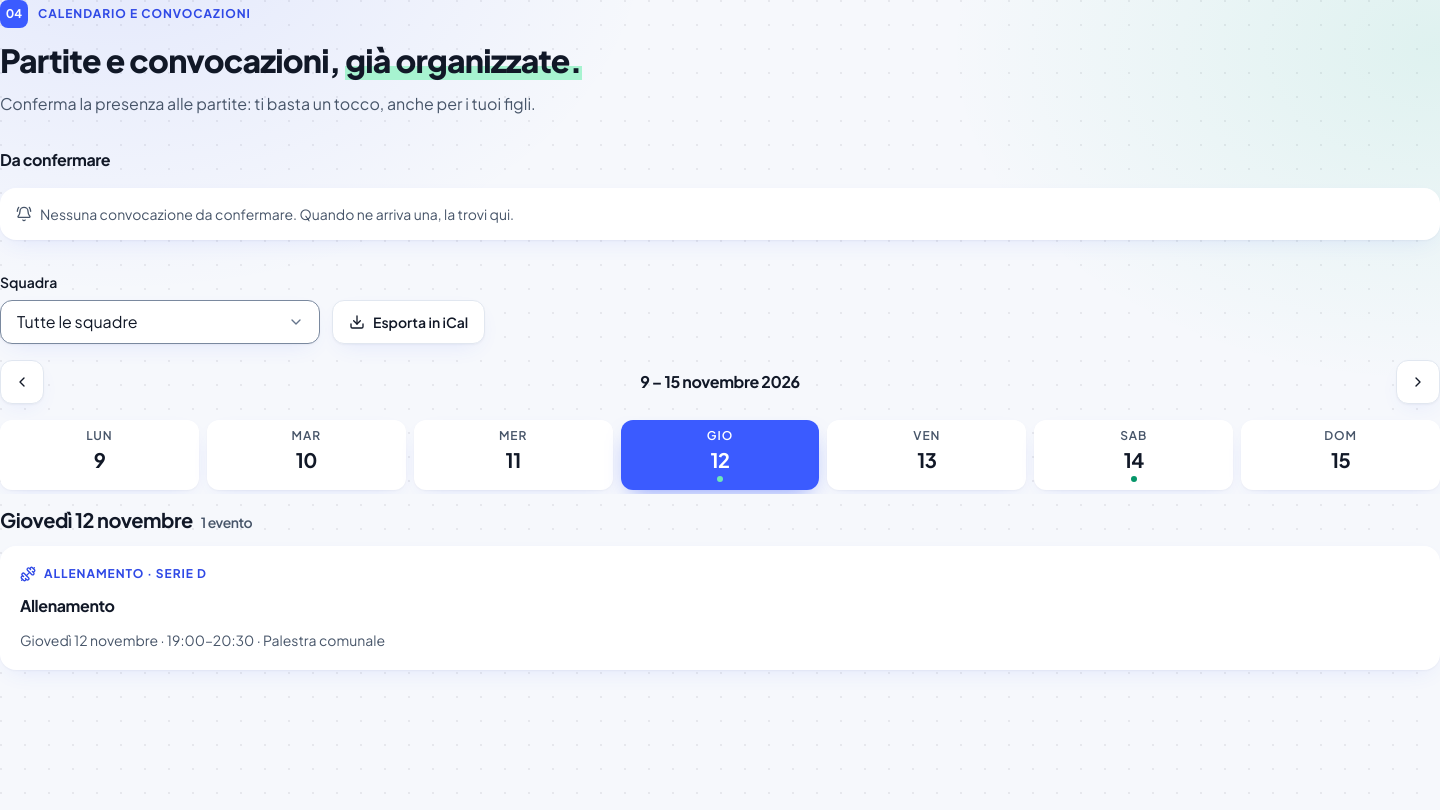
Test: convocations of an athlete or a guardian › tells an athlete that is not convocated yet what to expect
Click the button named "sab 14 novembre, con eventi" at {"x": 1134, "y": 455}, box [1034,420,1233,490]
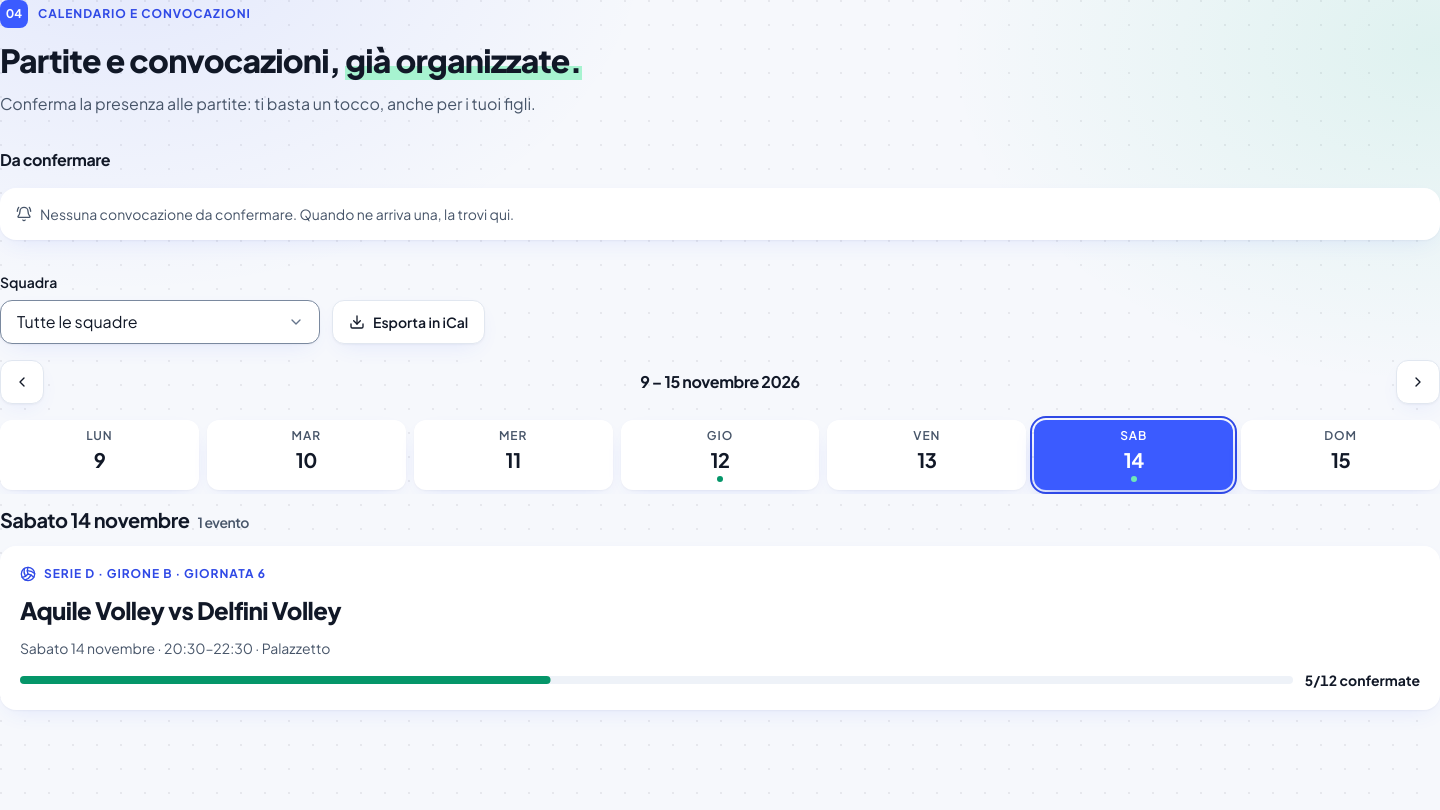
Click the button "Aquile Volley vs Delfini Volley" at {"x": 181, "y": 610}, box [20,594,341,626]
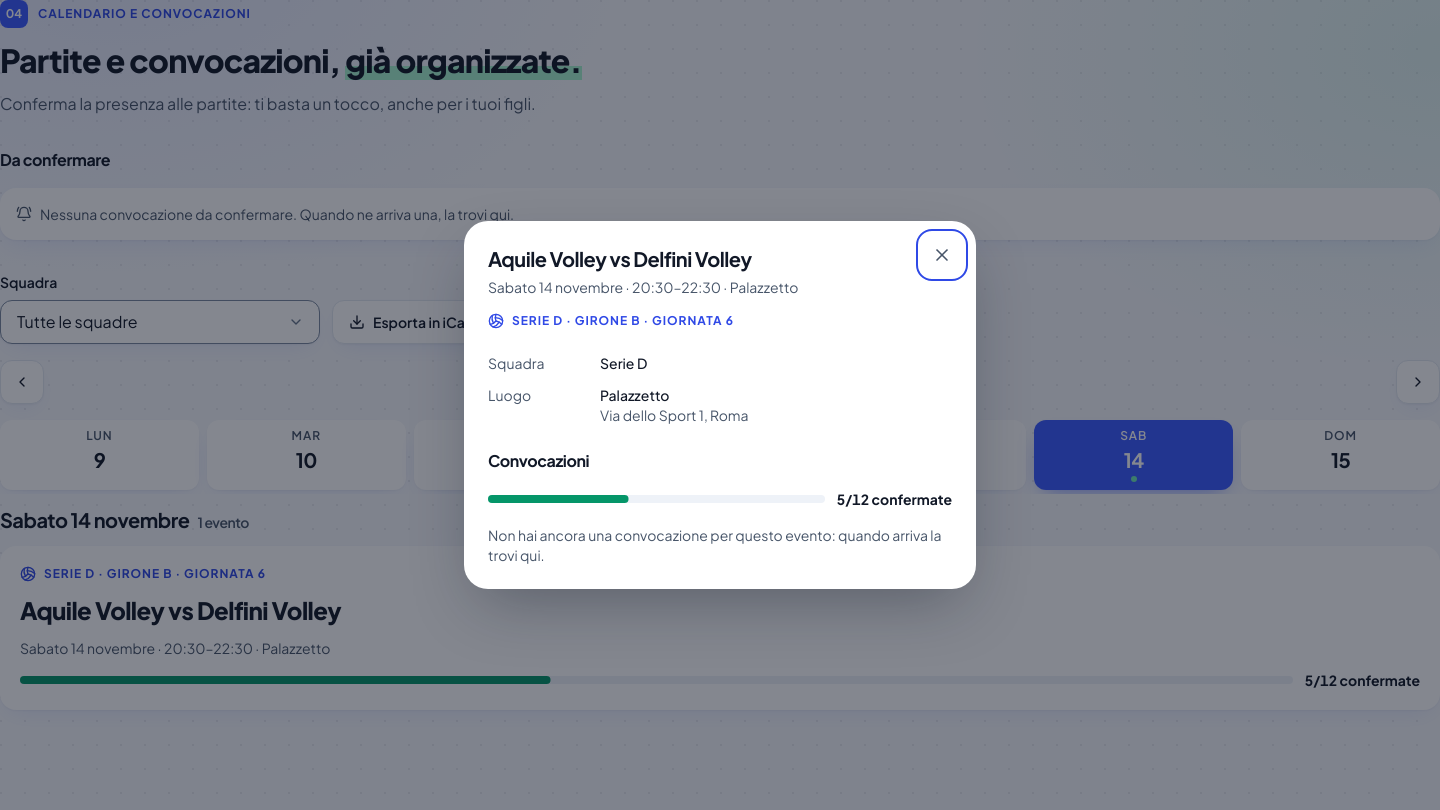
Expected: the text "Non hai ancora una convocazione" is shown, [488,526,942,564]
